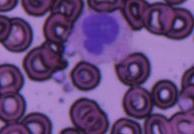N: (71, 8, 132, 63)
